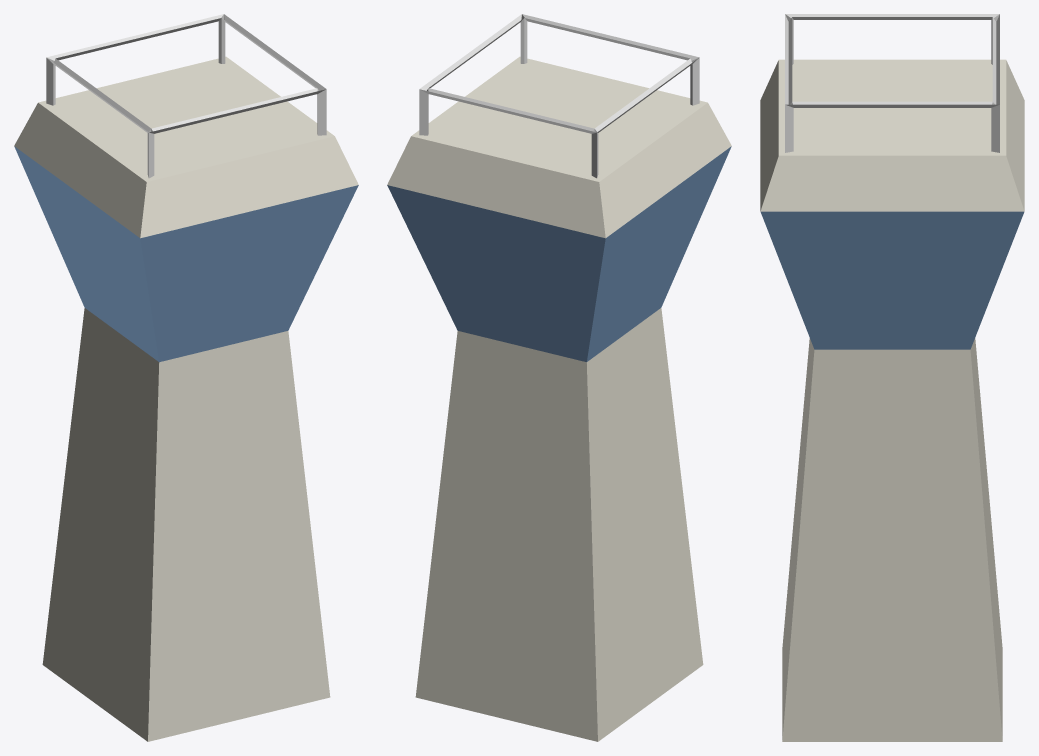
The model's file is tower.glb.
The picture shows the model from 3 angles, left to right: view 1: azimuth 30°, elevation 25°; view 2: azimuth 150°, elevation 25°; view 3: azimuth 270°, elevation 25°; orthographic projection. The views are drawn at different scales.
Parts seen in each view (by area): view 1: tower; view 2: tower; view 3: tower.
Part boxes in pixels (bbox=[...]): tower: bbox=[14, 14, 358, 741]; tower: bbox=[387, 14, 731, 741]; tower: bbox=[760, 14, 1024, 741].
Bounding box in the file's own units: 29.52 × 78.44 × 29.52.
